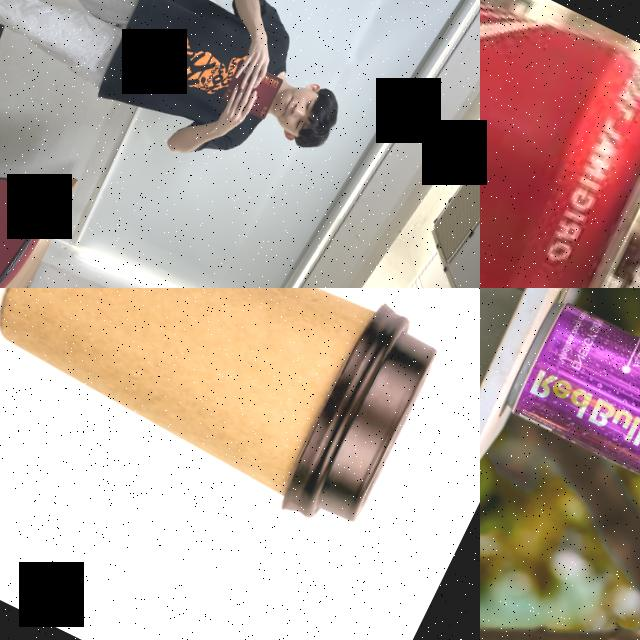can: (480, 0, 640, 288), (495, 288, 640, 554)
cup: (0, 288, 450, 547)
